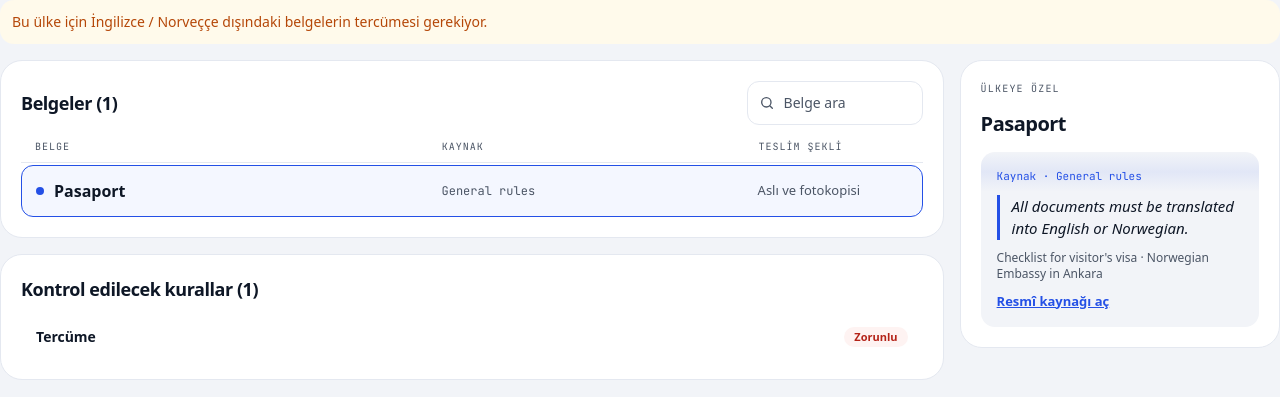
Test: ChecklistView › filters documents by the search text
The image size is (1280, 397).
Type "sigorta" into the search field.
click(835, 103); type("sigorta")  # box 747,81 -> 923,125
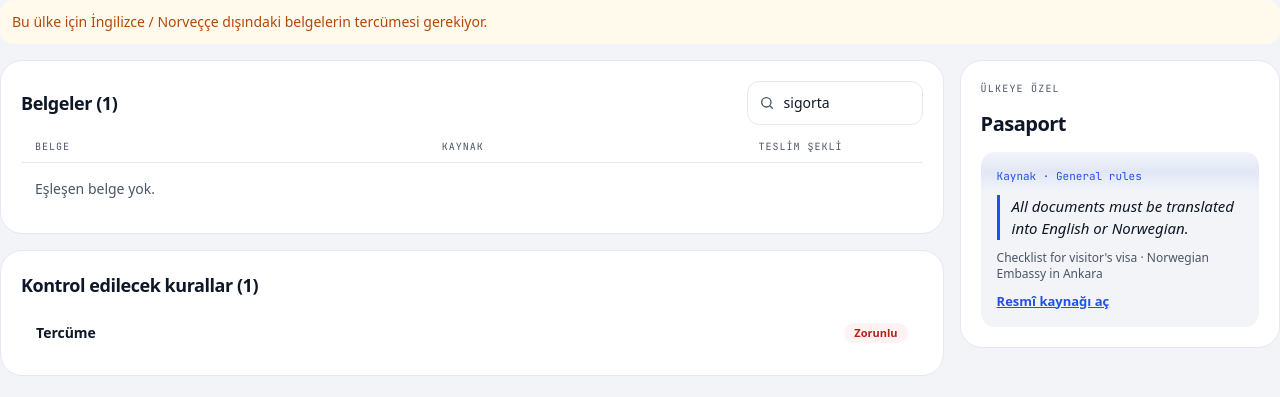
Expected: the text "Eşleşen belge yok." is shown, 35,179 -> 155,198
Replace the text in the search field with "pasa" at [835, 103], box 747,81 -> 923,125
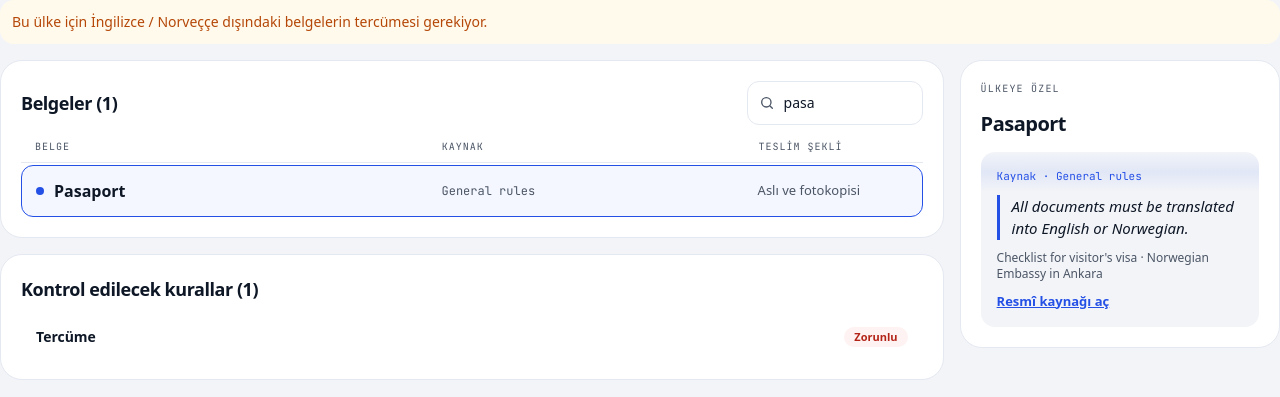
Expected: the button "Pasaport General rules Aslı ve fotokopisi" is shown, 21,165 -> 923,217
